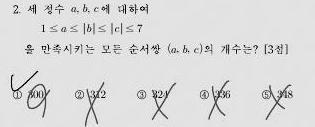choice: (9, 81, 25, 100)
not-choice: (135, 89, 148, 101), (198, 88, 210, 100), (260, 88, 272, 100), (73, 89, 85, 100)
